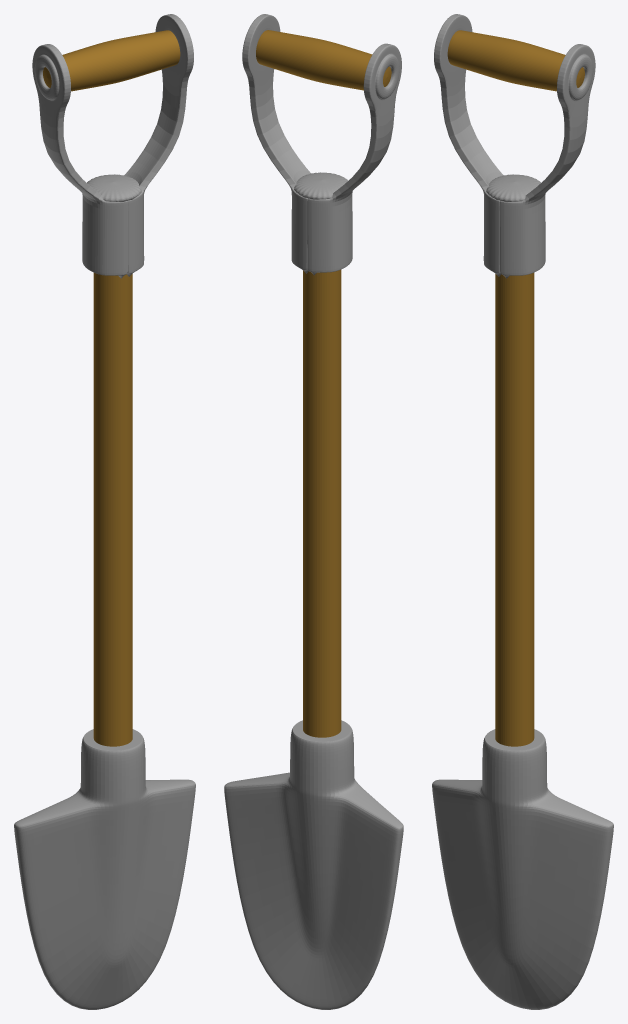
File: Shovel.fbx
3 renders of one model, left to right at view 1: azimuth 30°, elevation 25°; view 2: azimuth 150°, elevation 25°; view 3: azimuth 330°, elevation 25°, orthographic.
Parts seen in each view (by area): view 1: Cylinder; view 2: Cylinder; view 3: Cylinder.
Part boxes in pixels (x1,y1,x2,y2): Cylinder: (14, 14, 195, 1009); Cylinder: (224, 14, 403, 1009); Cylinder: (432, 14, 613, 1009).
Size of the model in its own units: 532 by 2787 by 168.
